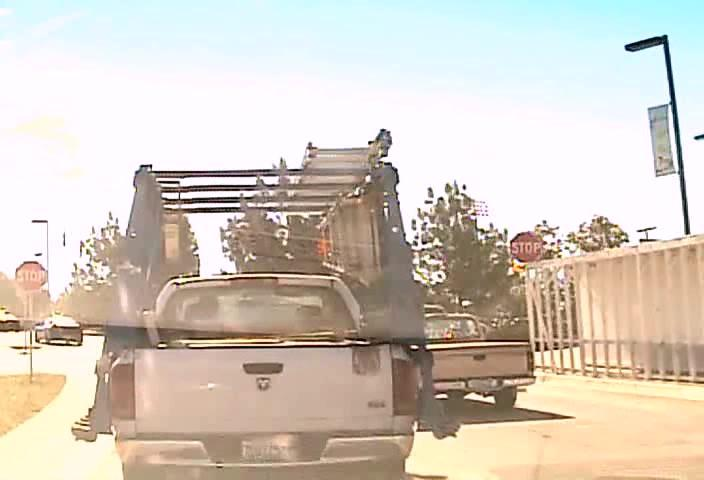stop: (509, 231, 542, 263)
